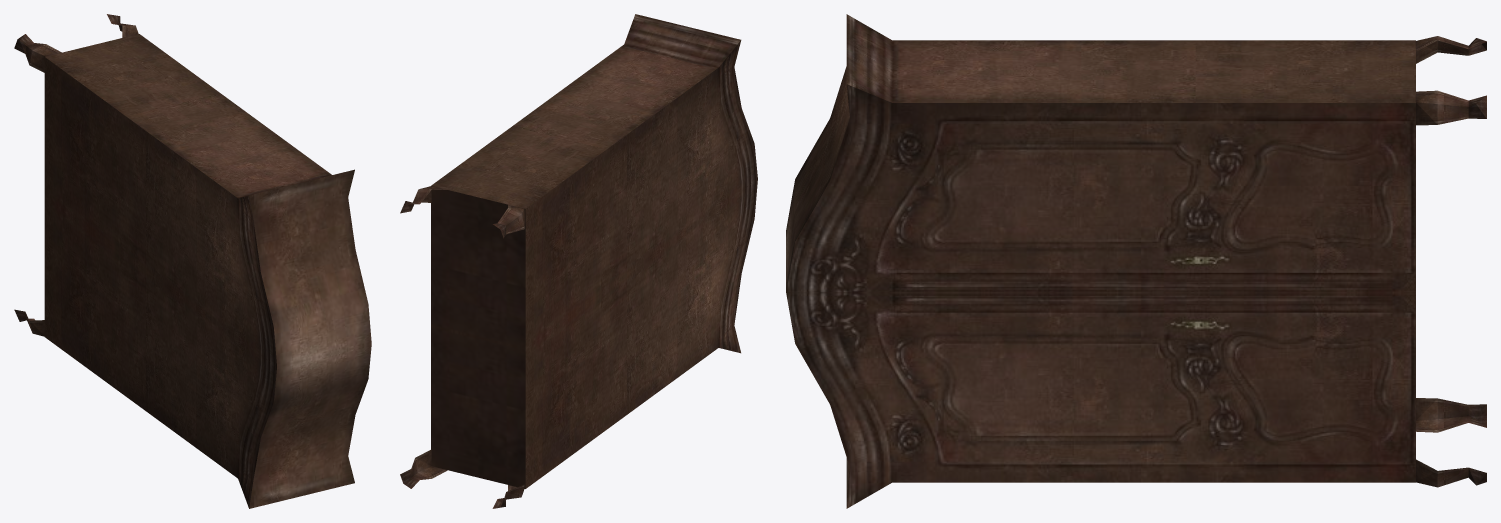
Rendered from furniture_armoire.glb.
The picture shows the model from 3 angles, left to right: view 1: azimuth 30°, elevation 25°; view 2: azimuth 150°, elevation 25°; view 3: azimuth 270°, elevation 25°; orthographic projection. The views are drawn at different scales.
Bounding box in the file's own units: 17.78 × 48.61 × 72.65.
1 material, 1 textured.
